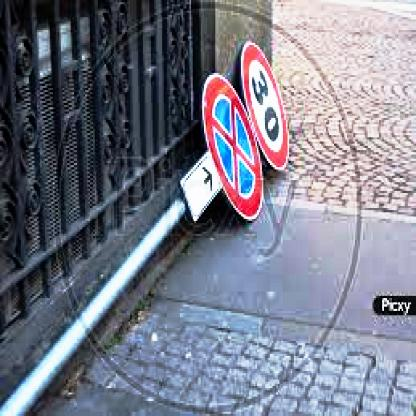No stopping: (198, 71, 270, 226)
